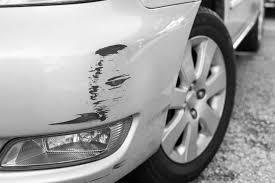front-bumper-dent: (0, 38, 187, 182)
